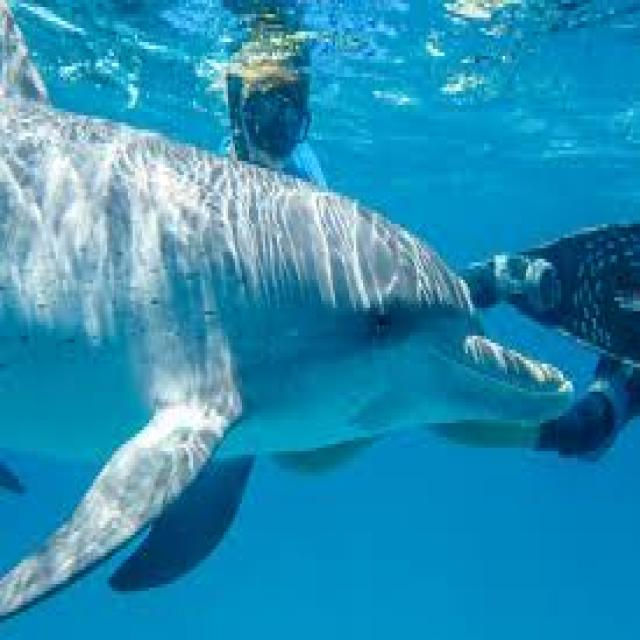dolphin: (14, 91, 565, 629)
